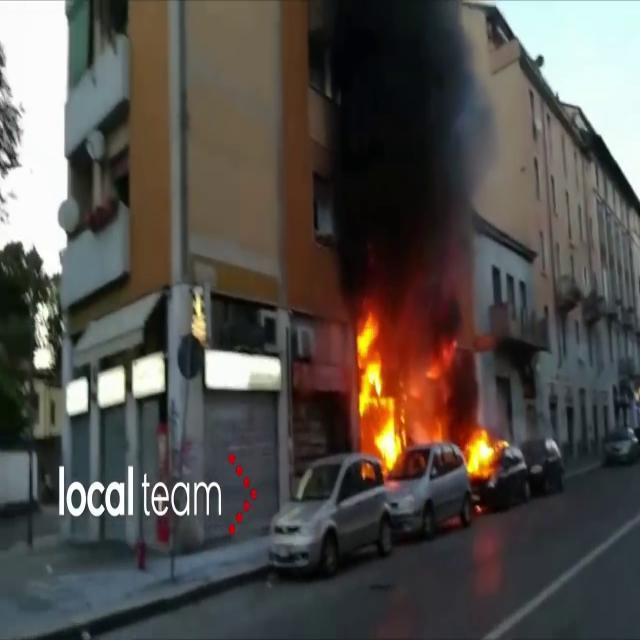Fire: (348, 302, 411, 476), (460, 418, 506, 482)
Smoke: (320, 1, 492, 326)
